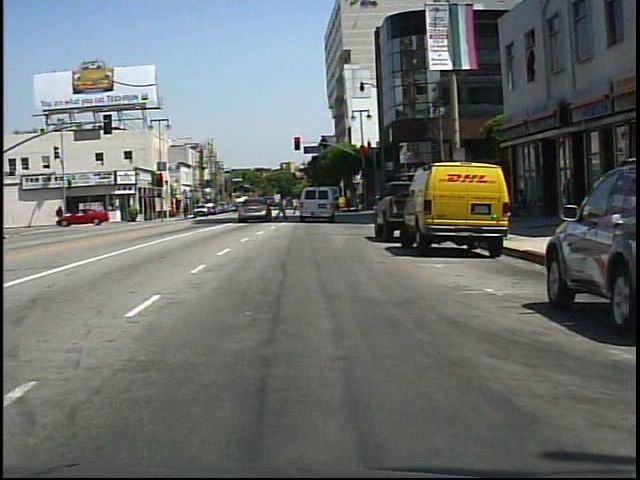person: (510, 182, 534, 223), (273, 193, 291, 224), (289, 196, 299, 218), (54, 205, 64, 226)
